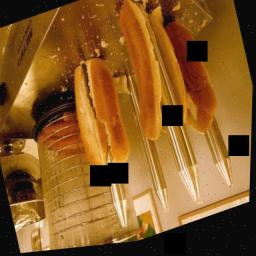hotdog: (42, 133, 82, 155), (49, 146, 87, 168), (42, 119, 78, 140), (60, 111, 74, 123), (36, 133, 47, 146)
